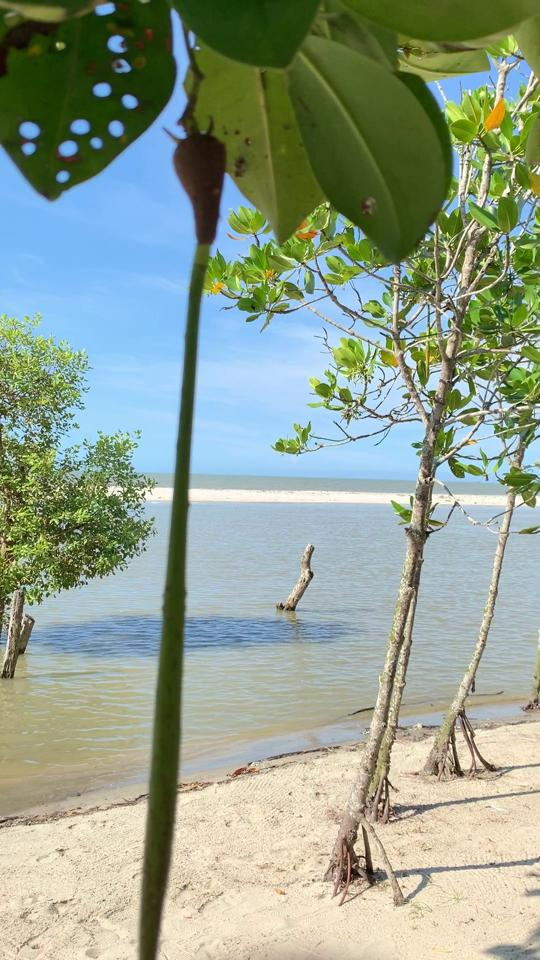setengah matang: (120, 110, 233, 955)
